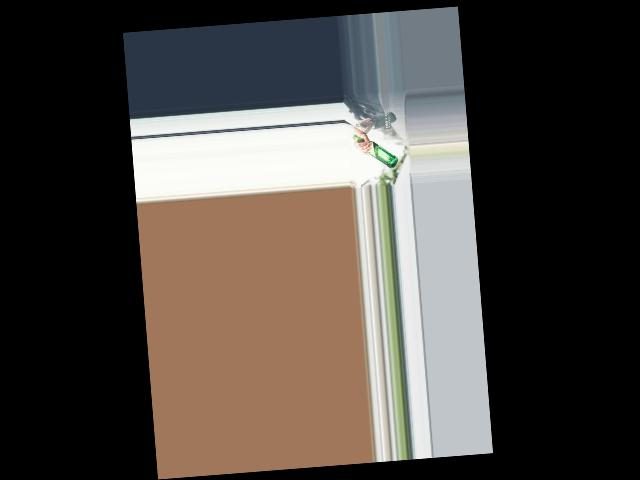beer: (352, 130, 399, 170)
